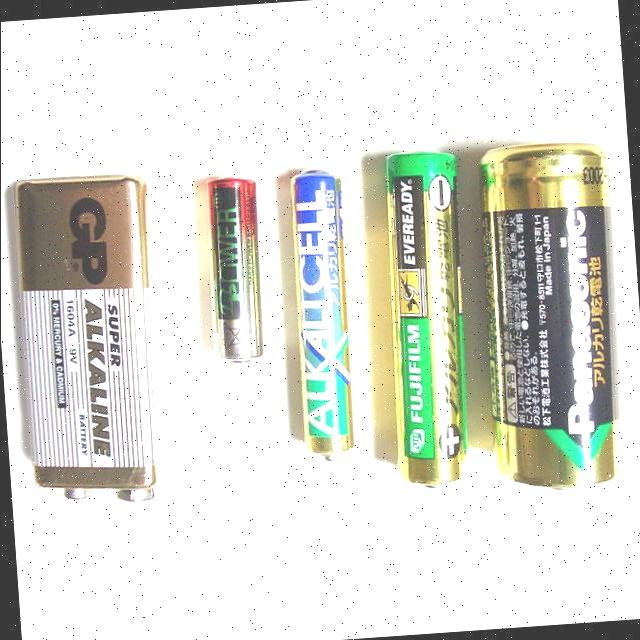9V: (12, 174, 173, 502)
AA: (384, 150, 468, 487)
AAA: (289, 168, 356, 459)
